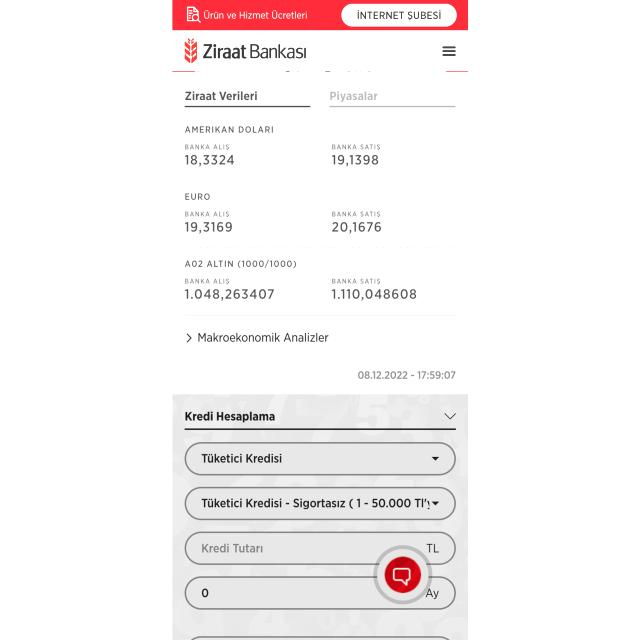QR code: (174, 77, 464, 320)
bag: (173, 0, 468, 75)
date picker: (180, 35, 310, 68)
decoration: (441, 43, 457, 60)
